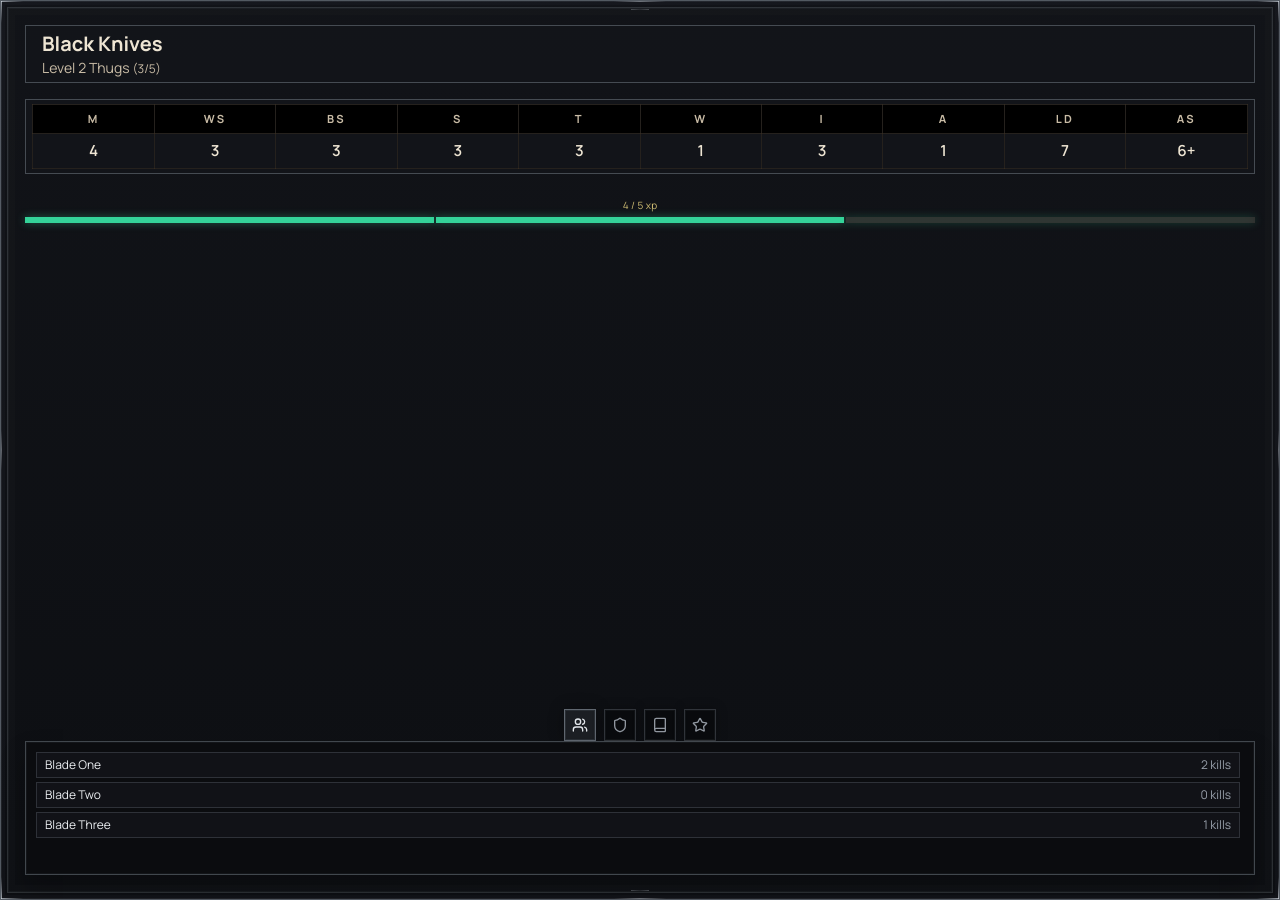
Test: henchmen group summary card › lists the loadout behind one tab per non-empty block, the first tab open
Expected: the button named "Roster" is shown, [564,709,596,741]
Expected: the button named "Skills" is shown, [644,709,676,741]
Click the button named "Equipment" at (620, 725), box [604,709,636,741]
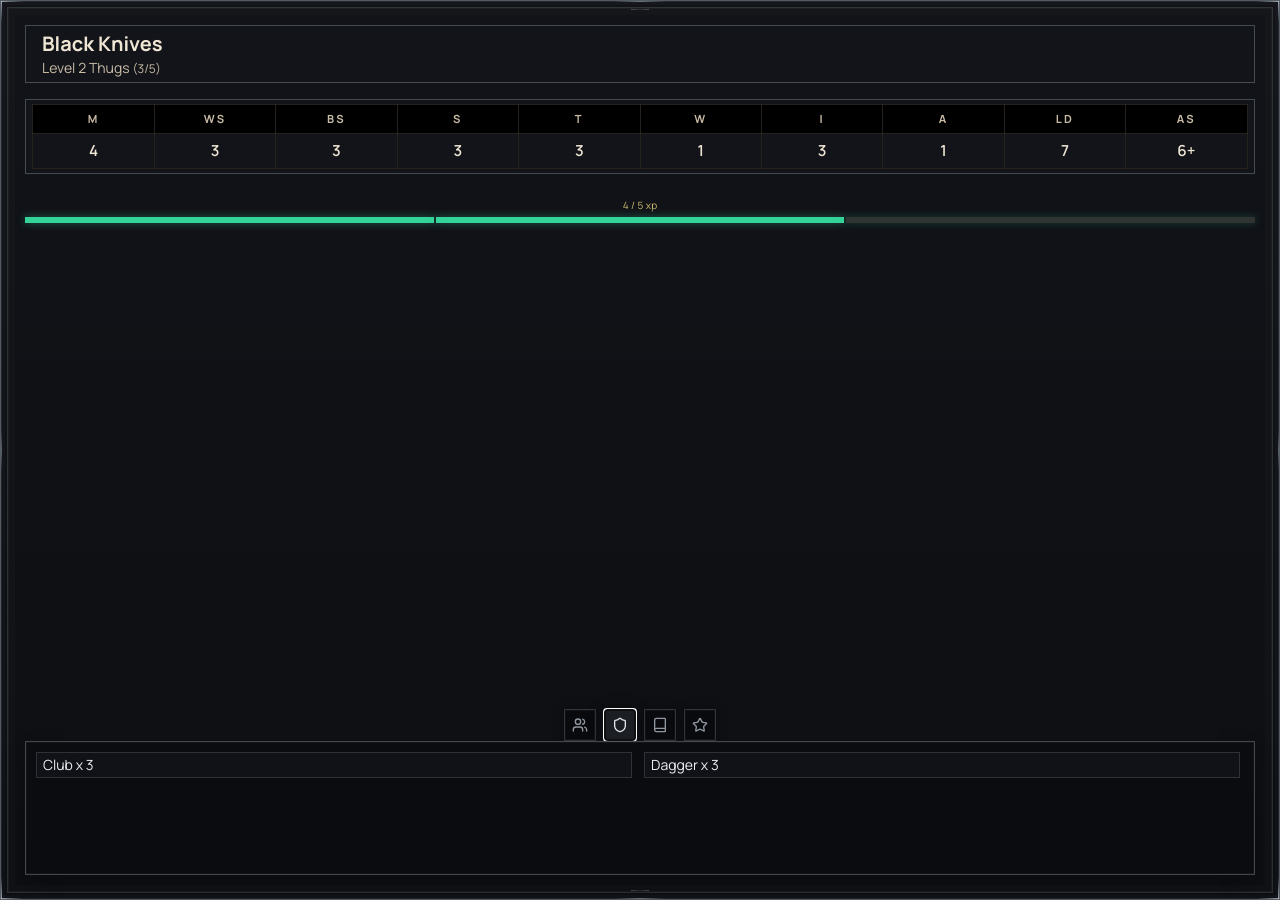
Expected: the button "Club x 3" is shown, [43,755,625,775]
Expected: the button "Dagger x 3" is shown, [651,755,1233,775]
